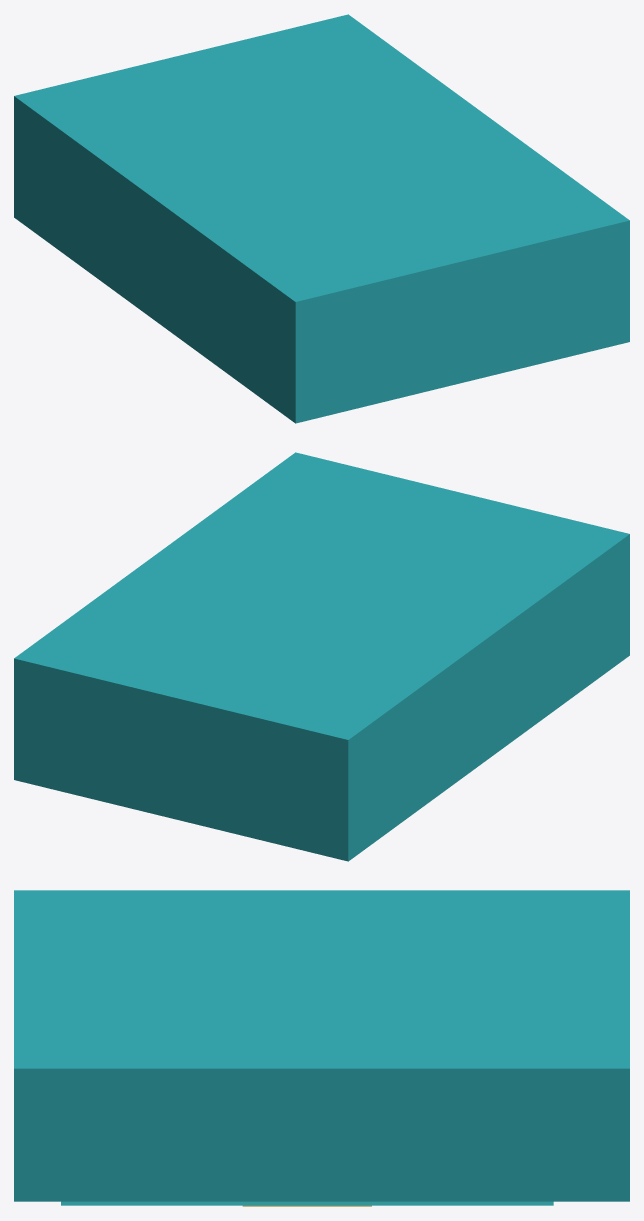
Rendered from electrical-panel.glb.
3 views of the same model, one above another, from view 1: azimuth 30°, elevation 25°; view 2: azimuth 150°, elevation 25°; view 3: azimuth 270°, elevation 25° (orthographic). The views are drawn at different scales.
Visible parts, largest first — view 1: world; view 2: world; view 3: world.
Boxes of the visible parts, box(x1,y1,x2,y2) form: world: box(14, 14, 629, 423); world: box(14, 452, 629, 861); world: box(14, 890, 629, 1206).
Bounding box in the file's own units: 0.72 × 0.325 × 1.05.
